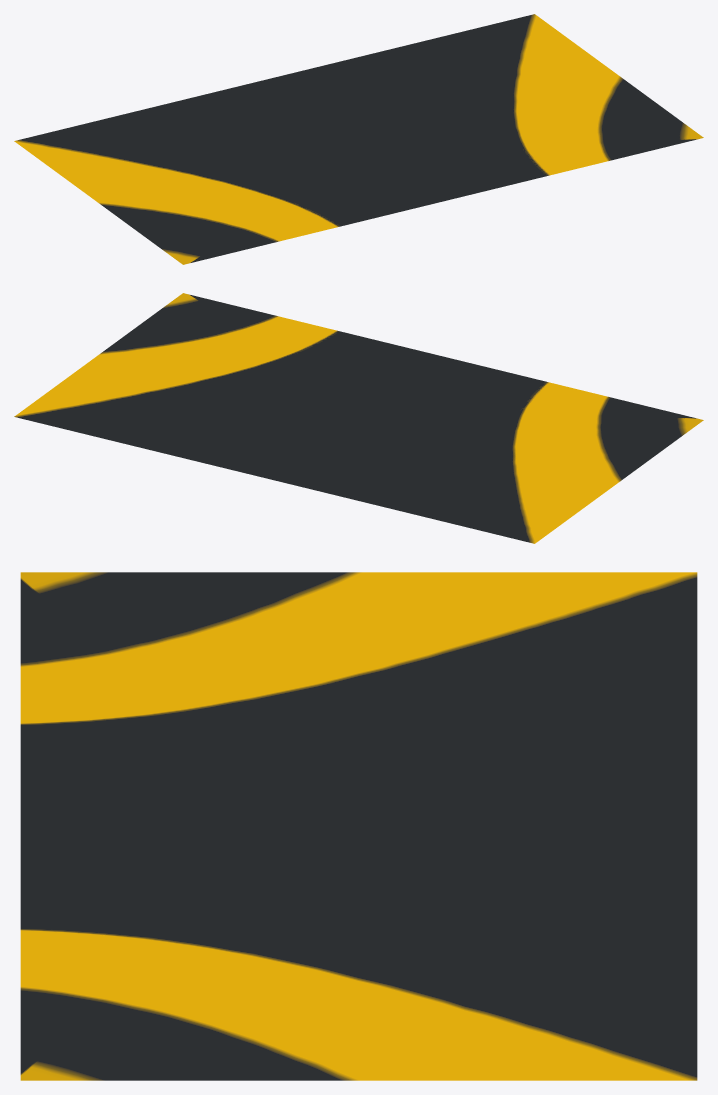
The model's file is plane_single.gltf.
3 renders of one model, top to bottom at view 1: azimuth 30°, elevation 25°; view 2: azimuth 150°, elevation 25°; view 3: azimuth 270°, elevation 25°, orthographic. The views are drawn at different scales.
Visible parts, largest first — view 1: front_vradar; view 2: front_vradar; view 3: front_vradar.
Part boxes in pixels (<box>): front_vradar: <box>14,14,703,264</box>; front_vradar: <box>14,293,703,543</box>; front_vradar: <box>20,572,697,1080</box>.
Size of the model in its own units: 12.8 by 0 by 7.2.
Materials: 1 (1 with a texture image).
